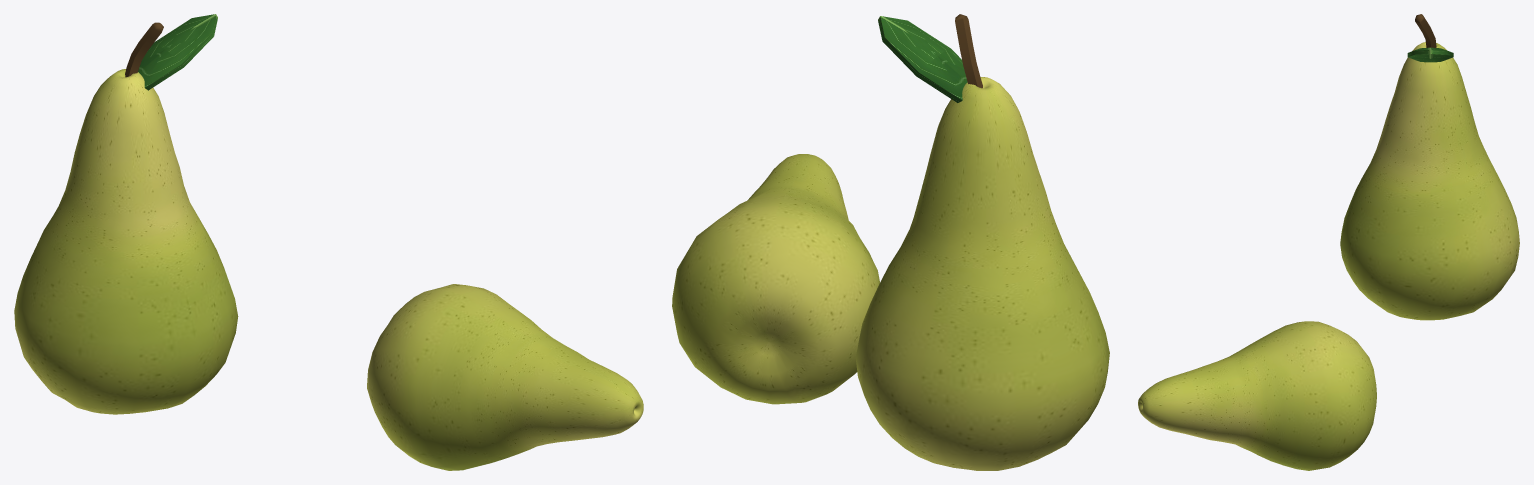
File: fruit_pear_ripe.glb
3 views of the same model, side by side, from view 1: azimuth 30°, elevation 25°; view 2: azimuth 150°, elevation 25°; view 3: azimuth 270°, elevation 25° (orthographic). The views are drawn at different scales.
Visible parts, largest first — view 1: fruit_pear_ripe; view 2: fruit_pear_ripe; view 3: fruit_pear_ripe.
Part boxes in pixels (x1,y1,x2,y2): fruit_pear_ripe: [14, 14, 643, 470]; fruit_pear_ripe: [672, 14, 1109, 470]; fruit_pear_ripe: [1138, 14, 1519, 470].
Size of the model in its own units: 0.1535 by 0.1466 by 0.1417.
3 materials, 2 textured.
